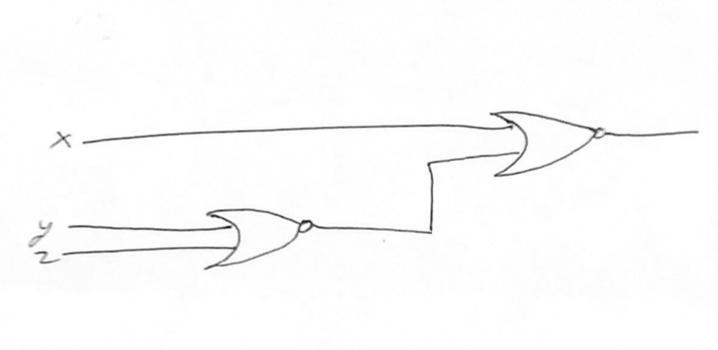NOR: (190, 194, 338, 276), (474, 102, 617, 186)
